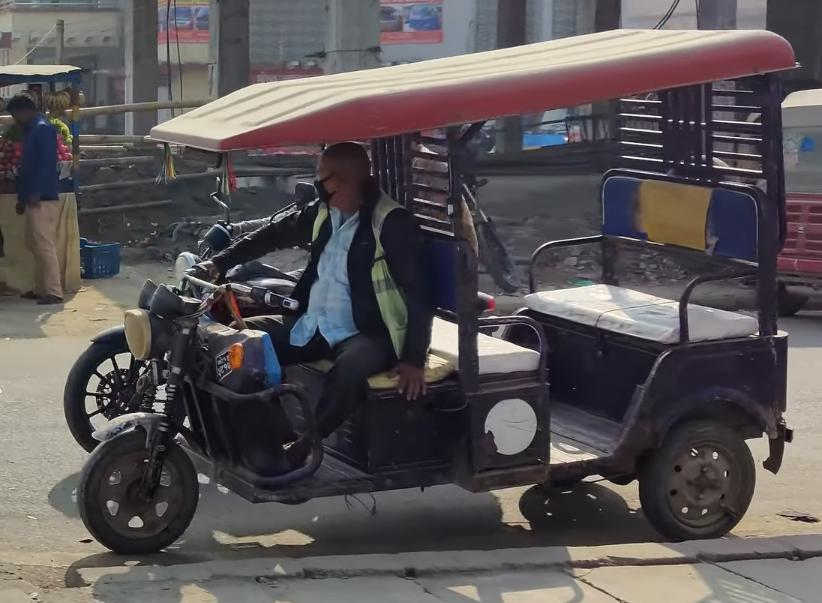e-rickshaw: (57, 20, 797, 583)
